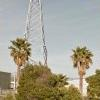Palm tree: (9, 33, 33, 81)
